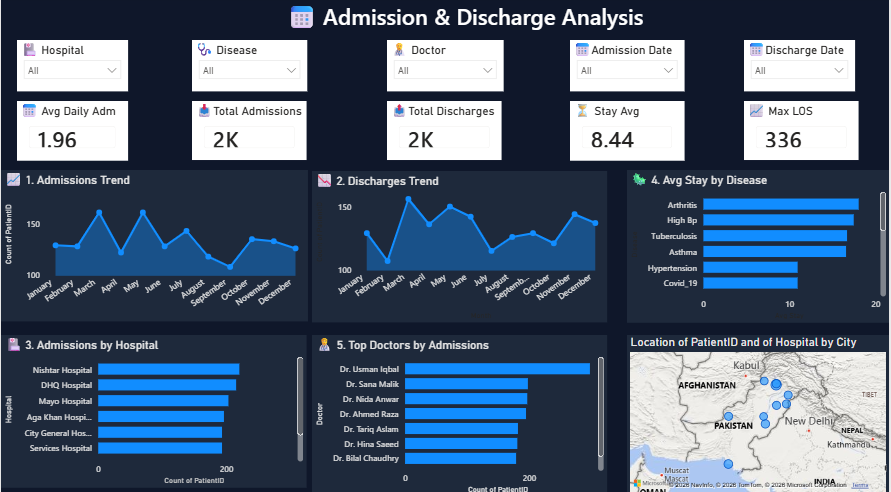

Layout of this report page (visuals, bound fields, positions):
{"tool":"powerbi","page":{"name":"📅 Admission & Discharge Analysis","canvas":[1280,720],"ordinal":3},"visuals":[{"type":"shape","box":[0,0,1280,73.9],"z":0},{"type":"textbox","box":[169.7,0,996.1,73.9],"z":1000},{"type":"slicer","title":"🏥 Hospital","fields":{"Values":["Dim Doctor.Doctor"]},"box":[23.5,62.2,159.6,73.9],"z":2000},{"type":"slicer","title":"🩺 Disease","fields":{"Values":["Fact Healthcare.Disease"]},"box":[275.5,62.2,166.3,73.9],"z":3000},{"type":"slicer","title":"👨⚕️ Doctor","fields":{"Values":["Dim Doctor.Doctor"]},"box":[556,62.2,168,73.9],"z":4000},{"type":"slicer","title":"📅Admission Date","fields":{"Values":["Fact Healthcare.AdmissionDate"]},"box":[819.7,62.2,164.6,73.9],"z":5000},{"type":"slicer","title":"📅Discharge Date","fields":{"Values":["Fact Healthcare.DischargeDate.1"]},"box":[1070,62.2,159.6,73.9],"z":6000},{"type":"cardVisual","title":"📥Total Admissions","fields":{"Data":["Dim Disease.Total Admissions"]},"box":[275.5,149.5,165,85],"z":7000},{"type":"cardVisual","title":"📤Total Discharges","fields":{"Data":["Dim Disease.Total Discharges"]},"box":[556,149.5,165,85],"z":8000},{"type":"cardVisual","title":"⏳ Stay Avg","fields":{"Data":["Dim Disease.Average Stay"]},"box":[819.7,149.5,164.6,85.7],"z":9000},{"type":"cardVisual","title":"📈 Max LOS","fields":{"Data":["Dim Disease.Longest Stay"]},"box":[1070,149.5,165,85],"z":10000},{"type":"cardVisual","title":"📅 Avg Daily Adm","fields":{"Data":["Dim Disease.Avg Daily Admissions"]},"box":[23.5,149.5,159.6,85.7],"z":11000},{"type":"lineChart","title":"📈 1. Admissions Trend","fields":{"Category":["Fact Healthcare.AdmissionDate.Variation.Date Hierarchy.Month"],"Y":["CountNonNull(Fact Healthcare.PatientID)"]},"box":[0,248.6,441.8,218.4],"z":12000},{"type":"lineChart","title":"📉 2. Discharges Trend","fields":{"Category":["Fact Healthcare.DischargeDate.1.Variation.Date Hierarchy.Month"],"Y":["CountNonNull(Fact Healthcare.PatientID)"]},"box":[448.5,250.3,425,218.4],"z":13000},{"type":"clusteredBarChart","title":"🏥 3. Admissions by Hospital","fields":{"Category":["Fact Healthcare.Hospital"],"Y":["CountNonNull(Fact Healthcare.PatientID)"]},"box":[0,487.1,440.1,220.1],"z":14000},{"type":"clusteredBarChart","title":"🦠 4. Avg Stay by Disease","fields":{"Y":["Dim Disease.Avg Stay"],"Category":["Fact Healthcare.Disease"]},"box":[902,248.6,378,220.1],"z":15000},{"type":"clusteredBarChart","title":"👨⚕️ 5. Top Doctors by Admissions","fields":{"Category":["Fact Healthcare.Doctor"],"Y":["CountNonNull(Fact Healthcare.PatientID)"]},"box":[448.5,487.1,425,233.5],"z":16000},{"type":"map","title":"Location of PatientID and  of Hospital by City","fields":{"Category":["Dim Patient.City"],"Size":["CountNonNull(Dim Patient.PatientID)"]},"box":[902,487,378,233],"z":17000}]}

Visuals, with their boxes in screenshot pixels (x1, y1, x2, y2), scaled from the page's 1280x720 canvas onto the 891x492 screenshot:
shape: (x1=0, y1=0, x2=890, y2=50)
textbox: (x1=118, y1=0, x2=812, y2=50)
"🏥 Hospital" slicer: (x1=16, y1=43, x2=127, y2=93)
"🩺 Disease" slicer: (x1=192, y1=43, x2=308, y2=93)
"👨⚕️ Doctor" slicer: (x1=387, y1=43, x2=504, y2=93)
"📅Admission Date" slicer: (x1=571, y1=43, x2=685, y2=93)
"📅Discharge Date" slicer: (x1=745, y1=43, x2=856, y2=93)
"📥Total Admissions" cardVisual: (x1=192, y1=102, x2=307, y2=160)
"📤Total Discharges" cardVisual: (x1=387, y1=102, x2=502, y2=160)
"⏳ Stay Avg" cardVisual: (x1=571, y1=102, x2=685, y2=161)
"📈 Max LOS" cardVisual: (x1=745, y1=102, x2=860, y2=160)
"📅 Avg Daily Adm" cardVisual: (x1=16, y1=102, x2=127, y2=161)
"📈 1. Admissions Trend" lineChart: (x1=0, y1=170, x2=308, y2=319)
"📉 2. Discharges Trend" lineChart: (x1=312, y1=171, x2=608, y2=320)
"🏥 3. Admissions by Hospital" clusteredBarChart: (x1=0, y1=333, x2=306, y2=483)
"🦠 4. Avg Stay by Disease" clusteredBarChart: (x1=628, y1=170, x2=890, y2=320)
"👨⚕️ 5. Top Doctors by Admissions" clusteredBarChart: (x1=312, y1=333, x2=608, y2=491)
"Location of PatientID and  of Hospital by City" map: (x1=628, y1=333, x2=890, y2=491)
